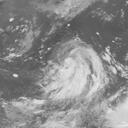cyclone: (38, 38, 109, 105)
